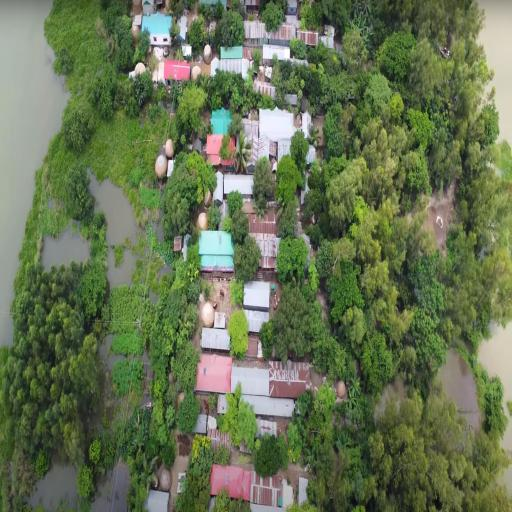flood: (0, 0, 68, 345), (91, 175, 137, 286), (442, 350, 480, 427), (480, 322, 512, 399), (32, 462, 76, 509), (42, 225, 88, 266), (92, 464, 128, 511), (375, 377, 408, 419), (502, 415, 512, 452), (501, 464, 512, 494)
house: (248, 200, 276, 272), (267, 360, 313, 402), (210, 460, 250, 508), (197, 229, 234, 280), (192, 350, 232, 396), (247, 471, 285, 512), (204, 132, 238, 172), (142, 9, 174, 48), (164, 52, 193, 90), (262, 43, 290, 74), (269, 19, 296, 45), (245, 16, 269, 43), (220, 48, 244, 75), (296, 24, 320, 50), (211, 110, 232, 135)
